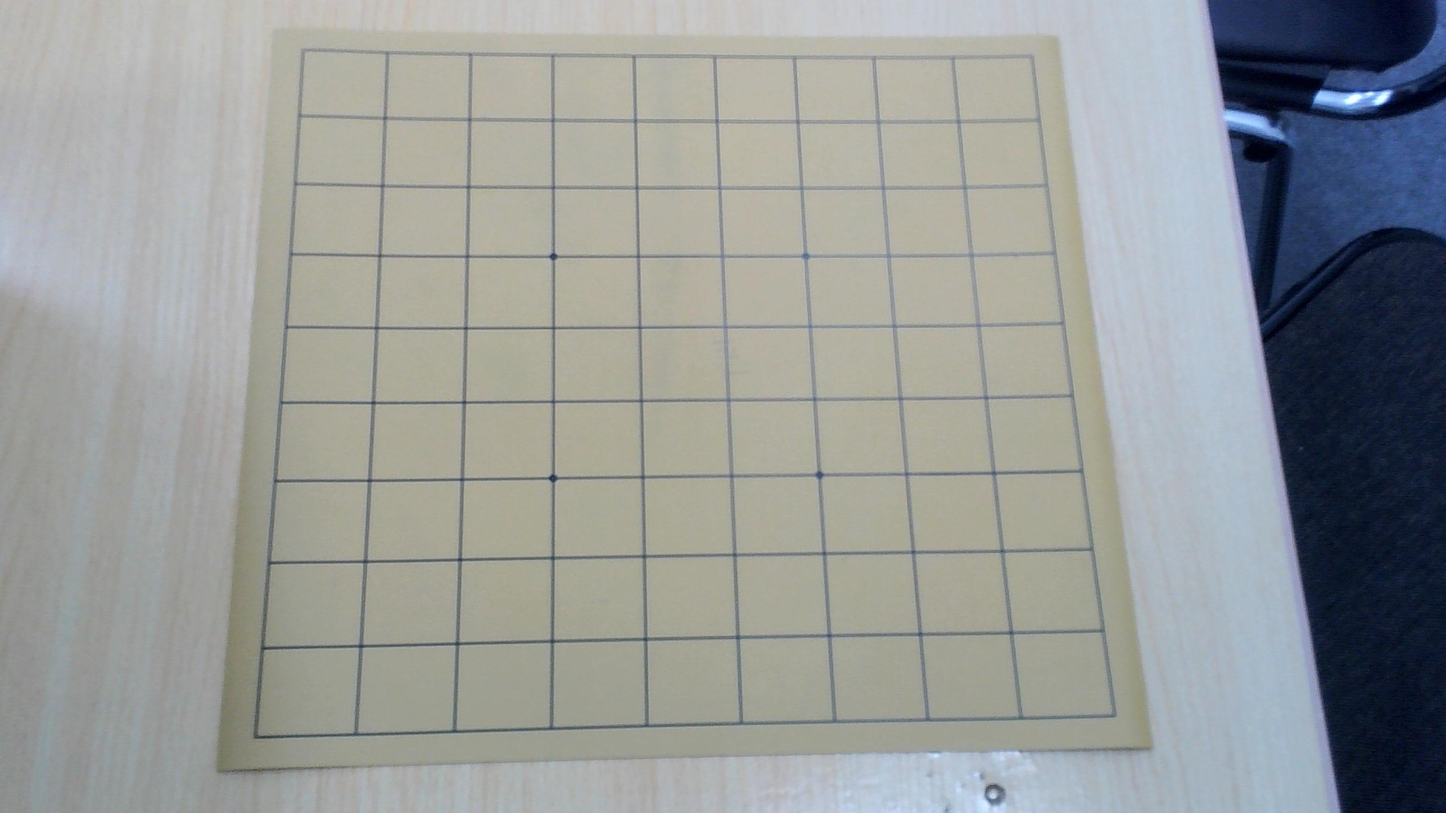board: (257, 49, 1115, 737)
